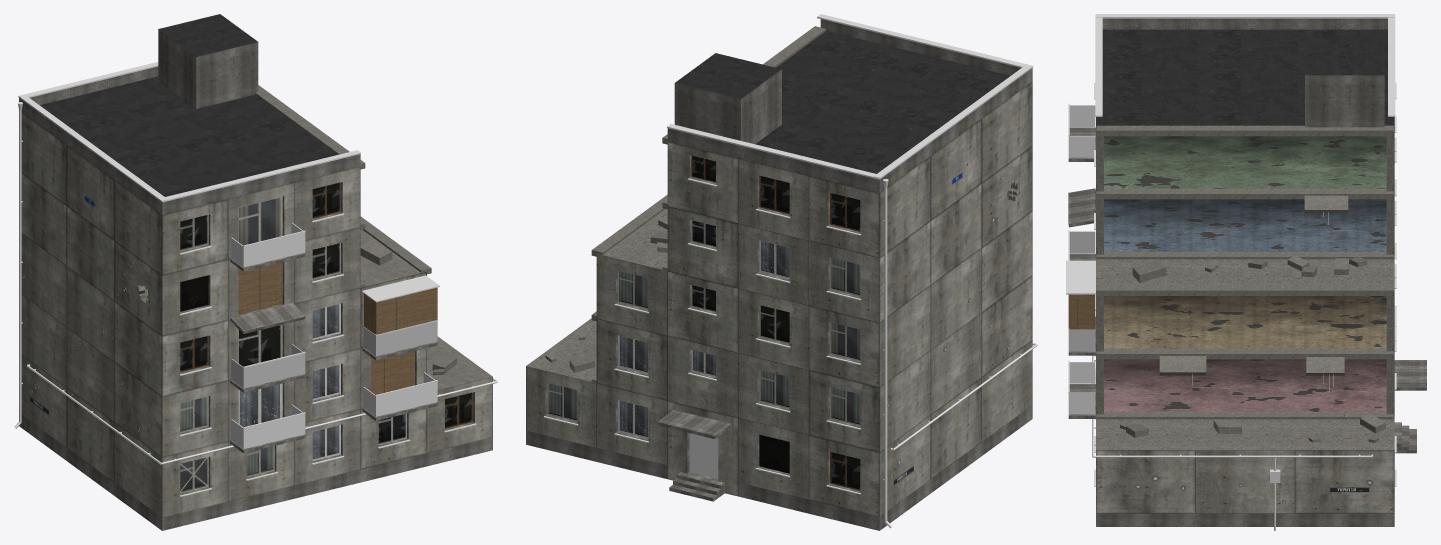
Rendered from S1U_KH_Collapsedend.fbx.
The picture shows the model from 3 angles, left to right: view 1: azimuth 30°, elevation 25°; view 2: azimuth 150°, elevation 25°; view 3: azimuth 270°, elevation 25°; orthographic projection. The views are drawn at different scales.
Visible parts, largest first — view 1: S1U_KH_Collapsedend; view 2: S1U_KH_Collapsedend; view 3: S1U_KH_Collapsedend.
Boxes of the visible parts, left/top/right/bottom form: S1U_KH_Collapsedend: left=14, top=14, right=497, bottom=530; S1U_KH_Collapsedend: left=526, top=14, right=1037, bottom=530; S1U_KH_Collapsedend: left=1066, top=14, right=1426, bottom=530.
Size of the model in its own units: 16.62 by 17.1 by 14.5.
